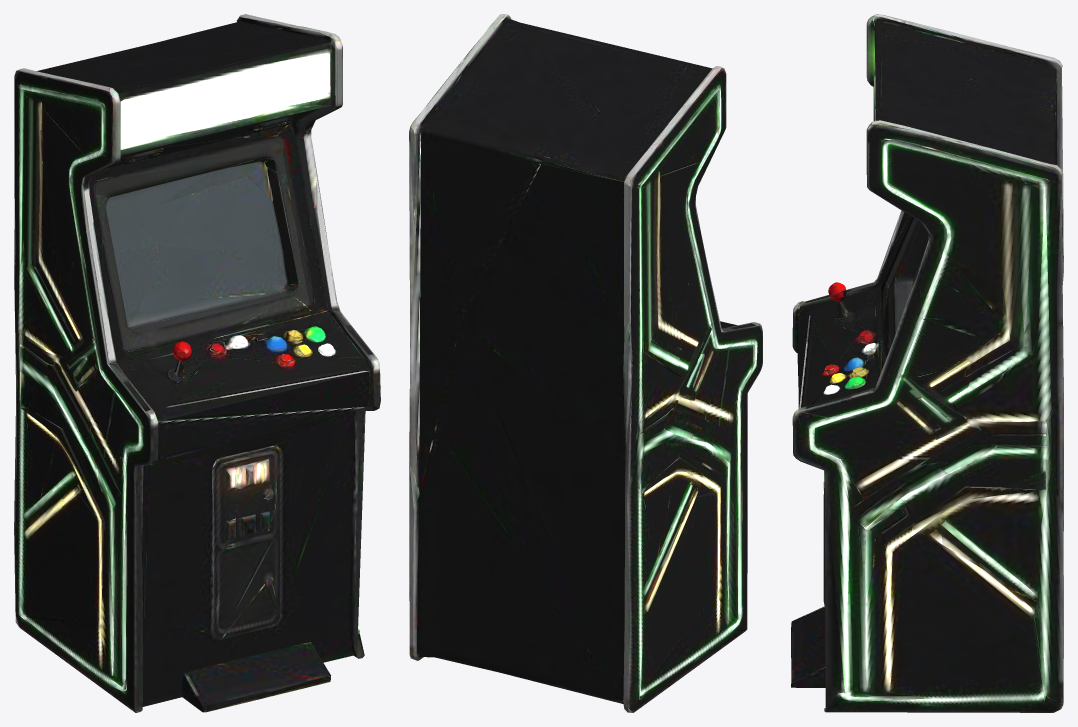
Rendered from cab.glb.
3 views of the same model, side by side, from view 1: azimuth 30°, elevation 25°; view 2: azimuth 150°, elevation 25°; view 3: azimuth 270°, elevation 25° (orthographic). The views are drawn at different scales.
Visible parts, largest first — view 1: Mesh_0; view 2: Mesh_0; view 3: Mesh_0.
Part boxes in pixels (x1,y1,x2,y2): Mesh_0: (14,14,380,712); Mesh_0: (409,14,762,712); Mesh_0: (791,14,1063,712).
Size of the model in its own units: 0.7743 by 1.9 by 0.7941.
Materials: 1 (1 with a texture image).
